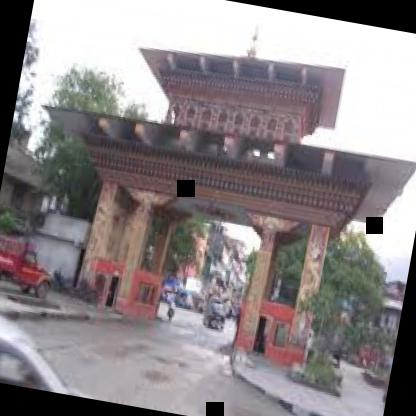car: (0, 218, 64, 306), (192, 289, 235, 337)
